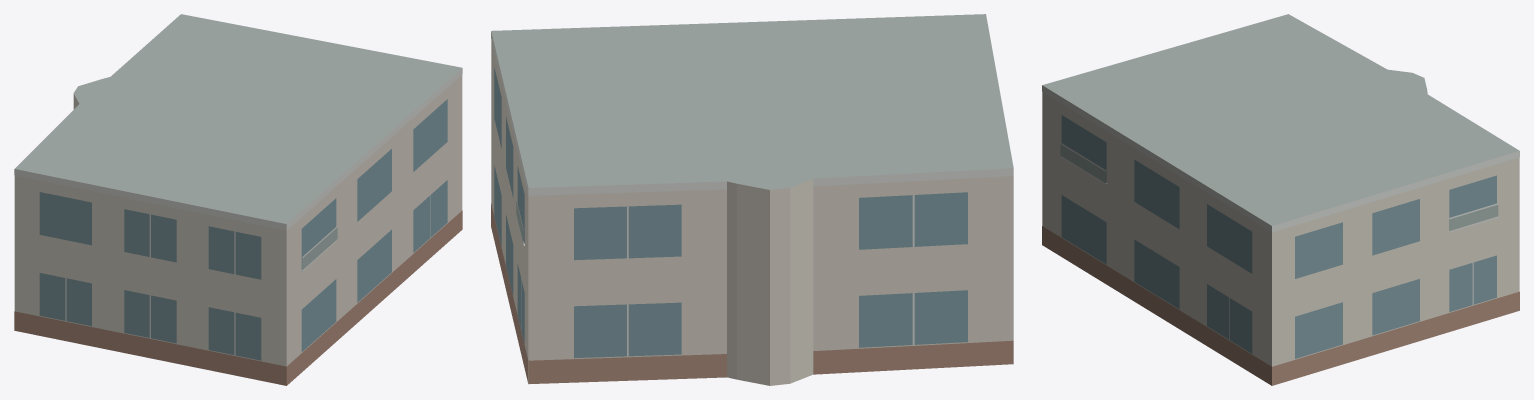
File: survey-upis-32625123.glb
3 renders of one model, left to right at view 1: azimuth 30°, elevation 25°; view 2: azimuth 150°, elevation 25°; view 3: azimuth 270°, elevation 25°, orthographic. The views are drawn at different scales.
Visible parts, largest first — view 1: survey-upis-32625123.tmp; view 2: survey-upis-32625123.tmp; view 3: survey-upis-32625123.tmp.
Part boxes in pixels (bbox=[...]): survey-upis-32625123.tmp: bbox=[14, 14, 462, 385]; survey-upis-32625123.tmp: bbox=[491, 14, 1013, 385]; survey-upis-32625123.tmp: bbox=[1042, 14, 1519, 385].
Bounding box in the file's own units: 17.36 × 6.1 × 16.53.
